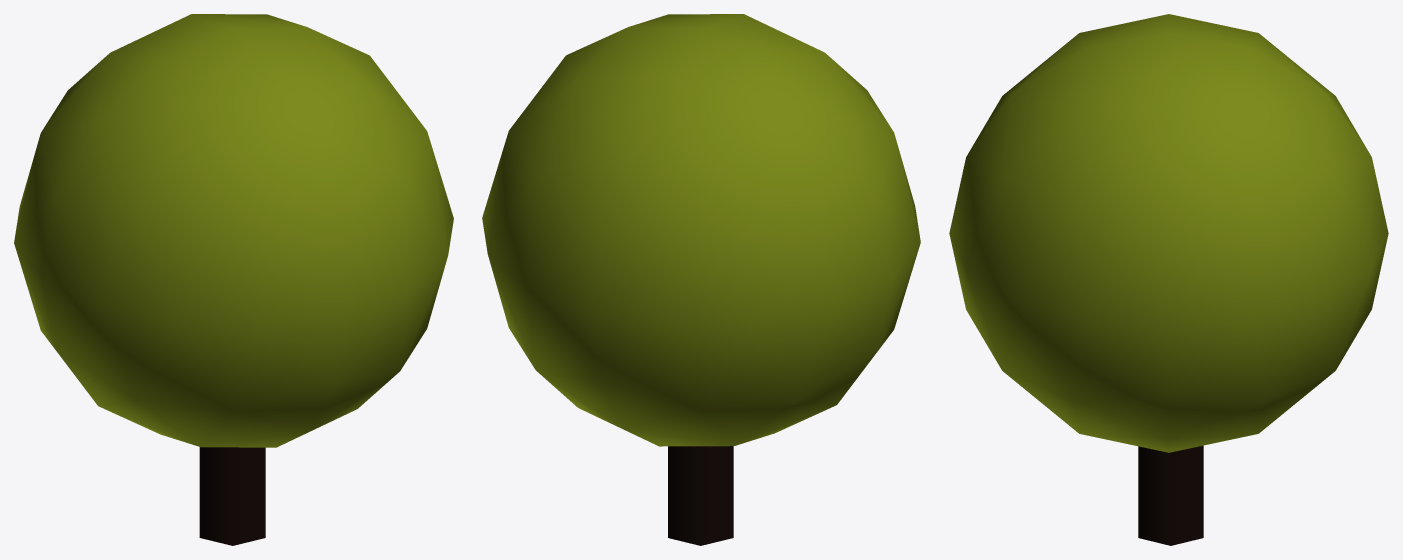
File: bush3.FBX
The picture shows the model from 3 angles, left to right: view 1: azimuth 30°, elevation 25°; view 2: azimuth 150°, elevation 25°; view 3: azimuth 270°, elevation 25°; orthographic projection.
Visible parts, largest first — view 1: GeoSphere171, Cylinder286; view 2: GeoSphere171, Cylinder286; view 3: GeoSphere171, Cylinder286.
Part boxes in pixels (x1,y1,x2,y2): GeoSphere171: (14,14,453,447); Cylinder286: (199,447,265,545); GeoSphere171: (482,14,920,446); Cylinder286: (668,446,733,545); GeoSphere171: (949,14,1388,452); Cylinder286: (1138,445,1203,545).
Bounding box in the file's own units: 5.48 × 6.82 × 5.48.
